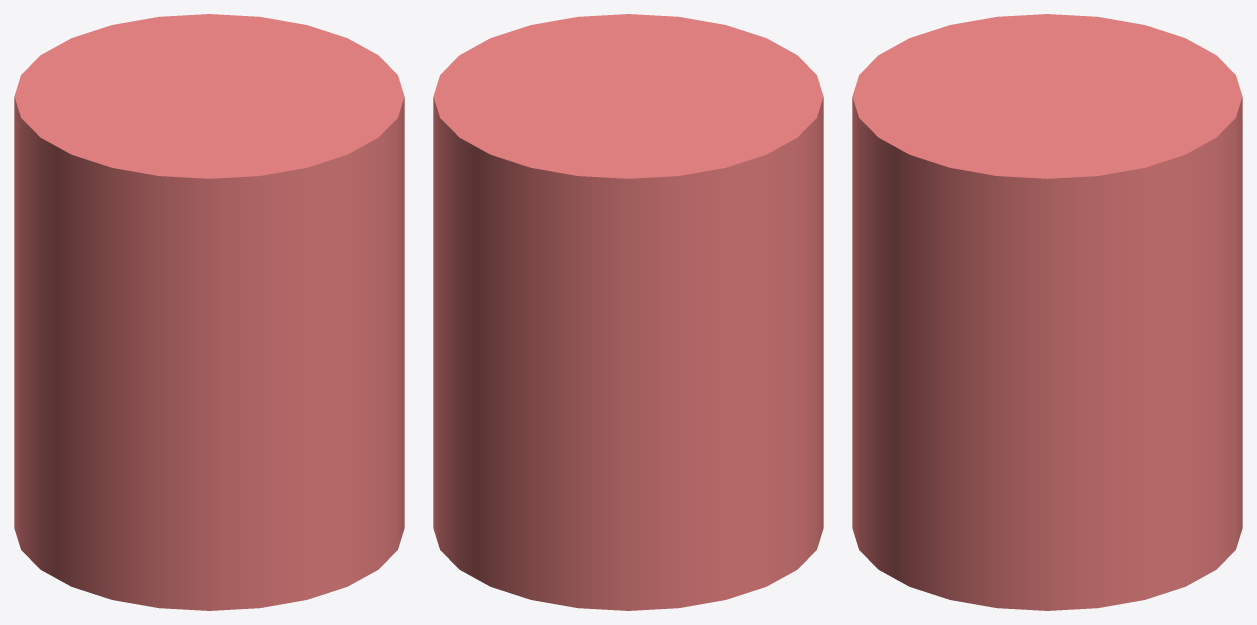
The picture shows the model from 3 angles, left to right: view 1: azimuth 30°, elevation 25°; view 2: azimuth 150°, elevation 25°; view 3: azimuth 270°, elevation 25°; orthographic projection.
Parts seen in each view (by area): view 1: Hydraulic Cylinder; view 2: Hydraulic Cylinder; view 3: Hydraulic Cylinder.
Part boxes in pixels (<box>): Hydraulic Cylinder: <box>14,14,404,610</box>; Hydraulic Cylinder: <box>433,14,823,610</box>; Hydraulic Cylinder: <box>852,14,1242,610</box>.
Size of the model in its own units: 0.9 by 1.1 by 0.9.
